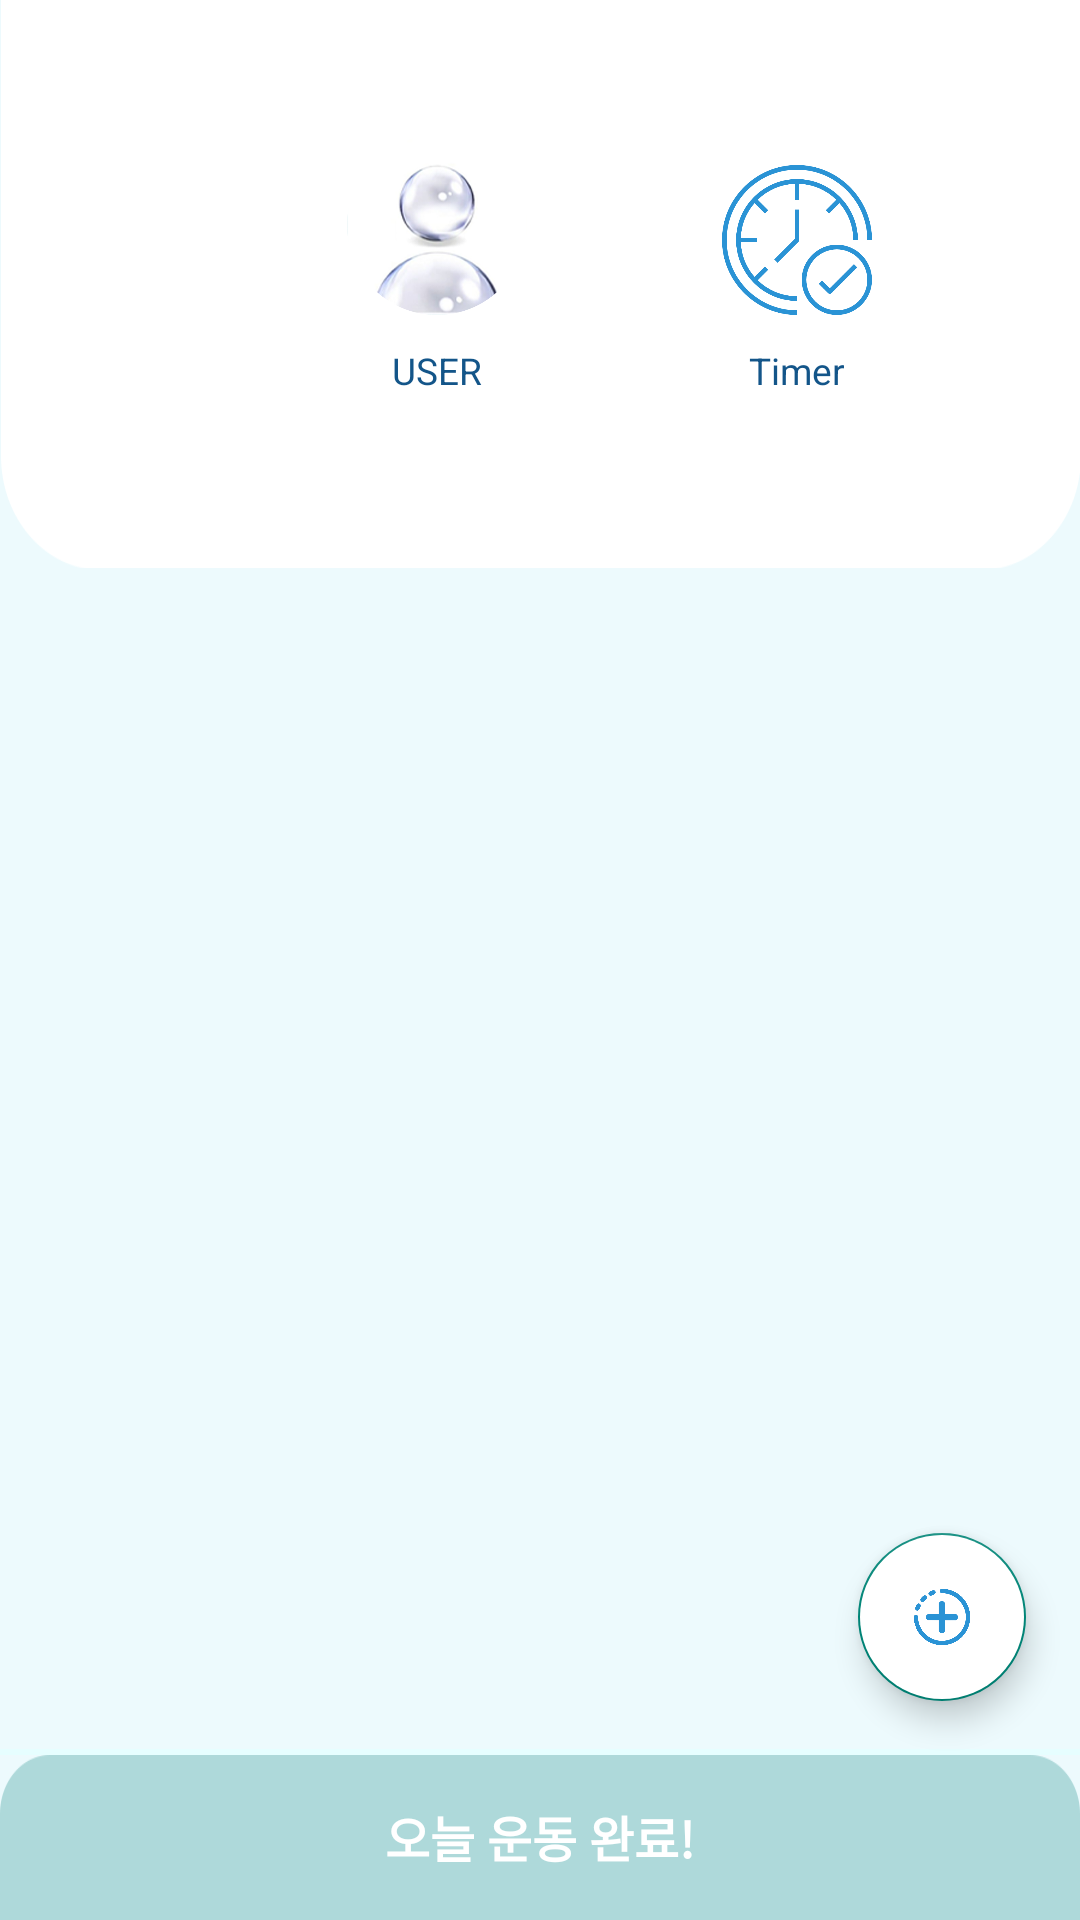

Icons on this 1080 × 1920 Android screen, each with the point to tap as point (x, y):
iconclock: point (797, 240)
plus: point (942, 1617)
